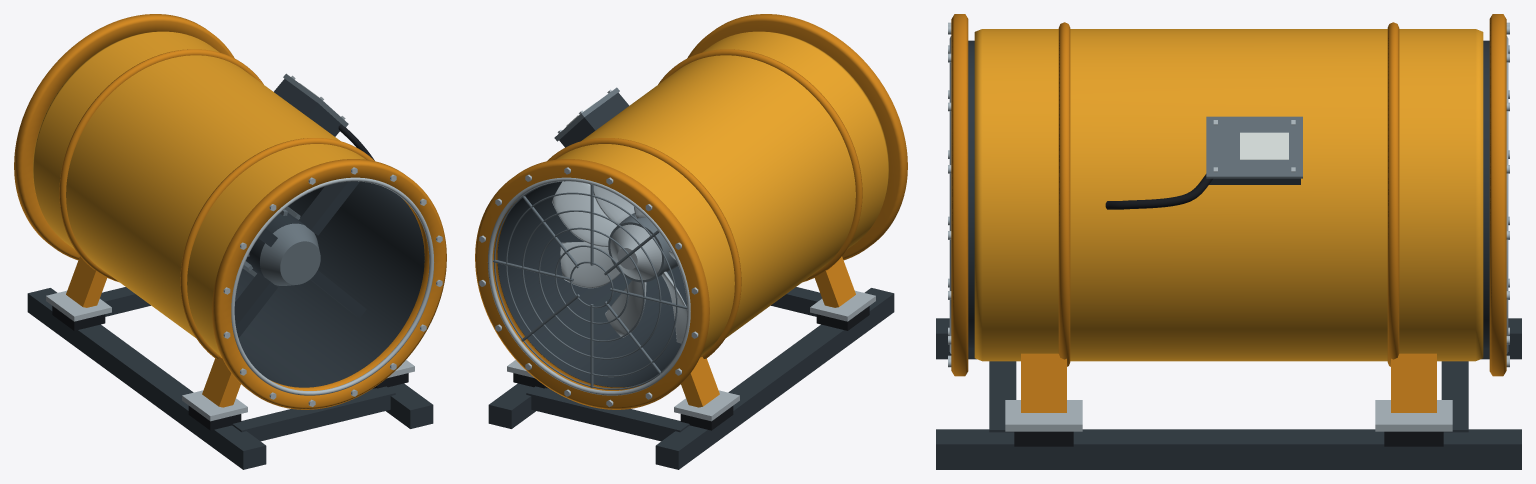
Rendered from axial-fan.glb.
3 views of the same model, side by side, from view 1: azimuth 30°, elevation 25°; view 2: azimuth 150°, elevation 25°; view 3: azimuth 270°, elevation 25° (orthographic). The views are drawn at different scales.
Visible parts, largest first — view 1: Rolled metal body, Internal liner, Outlet bolted flange, Main skid rail (×2), Inlet bolted flange, Circumferential stiffener (×2), Skid crossmember (×2), Motor support vane (×3), Outlet protective lip, Rear motor cap, Inclined saddle bracket (×2), Mounting plate (×2) (+4 smaller); view 2: Rolled metal body, Internal liner, Inlet bolted flange, Main skid rail (×2), Outlet bolted flange, Circumferential stiffener (×2), Concentric safety grille (×5), Skid crossmember (×2), Inlet protective lip, Inclined saddle bracket (×2), Impeller blade 1, Mounting plate (×2) (+9 smaller); view 3: Rolled metal body, Main skid rail (×2), Circumferential stiffener (×2), Inlet bolted flange, Outlet bolted flange, Inclined saddle bracket (×2), Gasketed lid, Internal liner, Mounting plate (×2), Skid crossmember (×2), Elastomer isolator (×2), Nameplate (+4 smaller).
Boxes of the visible parts, <box> form: Rolled metal body: <box>33,31,365,356</box>; Internal liner: <box>235,181,424,387</box>; Outlet bolted flange: <box>212,159,446,409</box>; Main skid rail (×2): <box>27,288,433,469</box>; Inlet bolted flange: <box>14,14,234,260</box>; Circumferential stiffener (×2): <box>59,49,374,358</box>; Skid crossmember (×2): <box>100,287,395,441</box>; Motor support vane (×3): <box>234,181,366,337</box>; Outlet protective lip: <box>231,177,434,395</box>; Rear motor cap: <box>260,223,320,285</box>; Inclined saddle bracket (×2): <box>66,256,240,407</box>; Mounting plate (×2): <box>46,290,247,421</box>; Rolled metal body: <box>556,31,888,356</box>; Internal liner: <box>497,181,686,387</box>; Inlet bolted flange: <box>475,159,709,409</box>; Main skid rail (×2): <box>488,288,894,469</box>; Outlet bolted flange: <box>687,14,907,260</box>; Circumferential stiffener (×2): <box>547,49,862,358</box>; Concentric safety grille (×5): <box>494,181,680,389</box>; Skid crossmember (×2): <box>526,287,821,441</box>; Inlet protective lip: <box>487,177,690,395</box>; Inclined saddle bracket (×2): <box>681,256,855,407</box>; Impeller blade 1: <box>552,181,616,246</box>; Mounting plate (×2): <box>674,290,875,421</box>; Rolled metal body: <box>974,29,1483,361</box>; Main skid rail (×2): <box>936,318,1521,469</box>; Circumferential stiffener (×2): <box>1058,22,1399,366</box>; Inlet bolted flange: <box>1489,14,1506,376</box>; Outlet bolted flange: <box>951,14,968,376</box>; Inclined saddle bracket (×2): <box>1021,353,1436,412</box>; Gasketed lid: <box>1206,116,1302,178</box>; Internal liner: <box>968,40,1489,349</box>; Mounting plate (×2): <box>1005,400,1452,431</box>; Skid crossmember (×2): <box>989,361,1468,432</box>; Elastomer isolator (×2): <box>1014,431,1443,446</box>; Nameplate: <box>1240,132,1288,159</box>.
Bounding box in the file's own units: 1.41 × 1.61 × 2.28.
